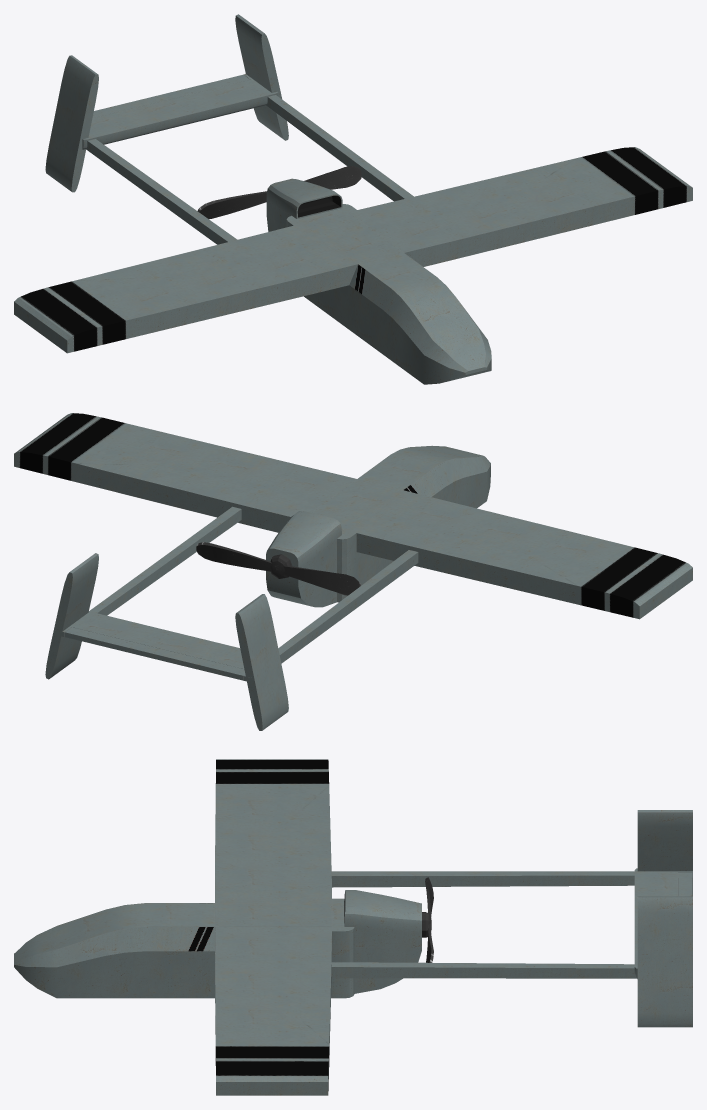
Rendered from UAV.fbx.
3 views of the same model, one above another, from view 1: azimuth 30°, elevation 25°; view 2: azimuth 150°, elevation 25°; view 3: azimuth 270°, elevation 25° (orthographic). The views are drawn at different scales.
Visible parts, largest first — view 1: UAV, propeller; view 2: UAV, propeller; view 3: UAV, propeller.
Part boxes in pixels (bbox=[...]): UAV: bbox=[14, 14, 692, 384]; propeller: bbox=[197, 166, 361, 219]; UAV: bbox=[14, 413, 692, 730]; propeller: bbox=[196, 542, 360, 595]; UAV: bbox=[14, 759, 692, 1095]; propeller: bbox=[422, 877, 433, 962].
Size of the model in its own units: 554 by 103 by 494.
